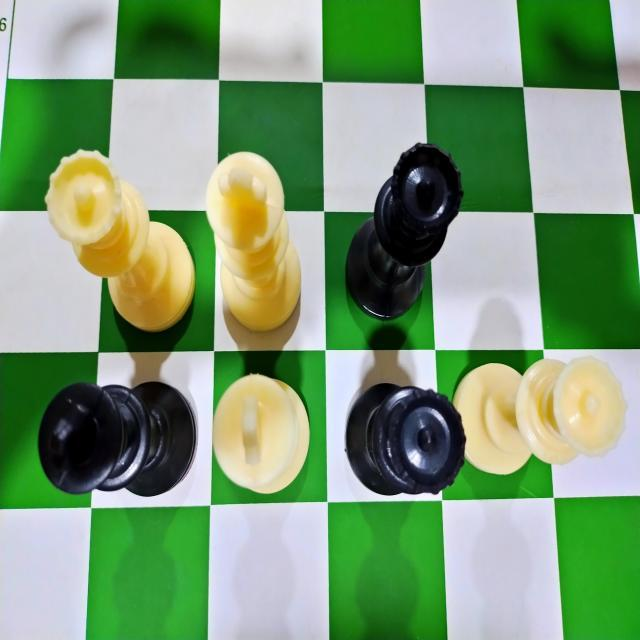black-king: (36, 381, 199, 495)
black-queen: (344, 143, 466, 319), (345, 385, 466, 497)
white-king: (204, 146, 303, 332), (208, 372, 314, 496)
white-queen: (42, 149, 197, 331), (453, 356, 628, 474)
